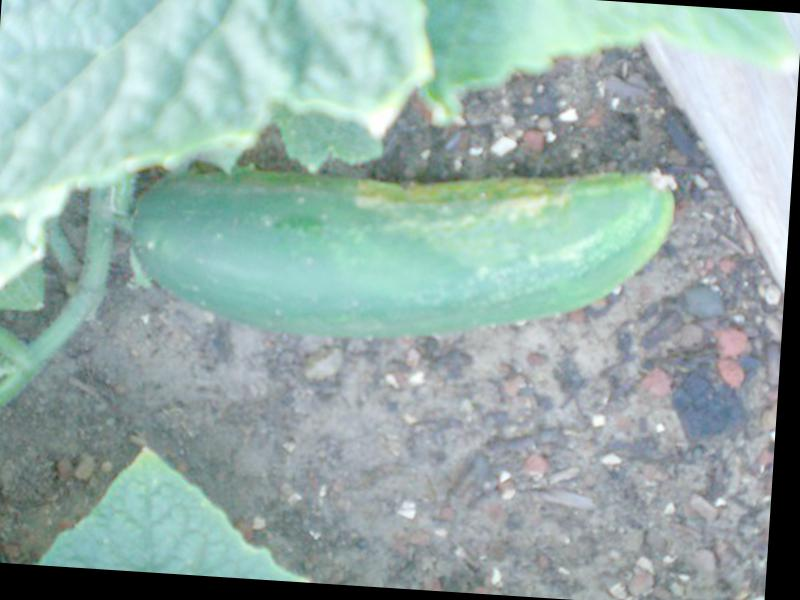Cucumber: (127, 136, 677, 356)
